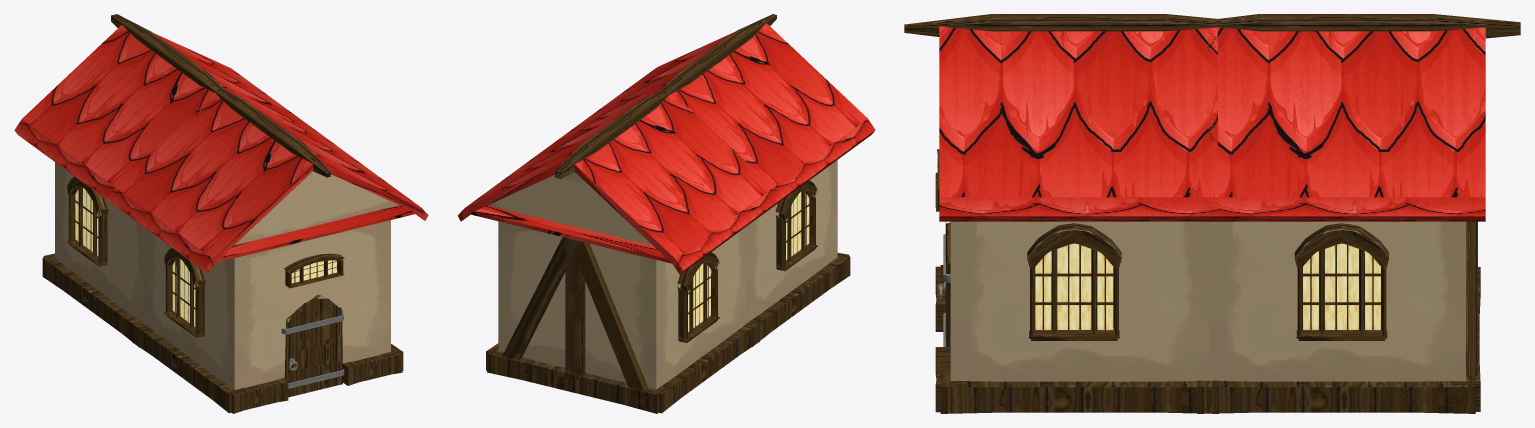
Rendered from house_chesburg_2.glb.
The picture shows the model from 3 angles, left to right: view 1: azimuth 30°, elevation 25°; view 2: azimuth 150°, elevation 25°; view 3: azimuth 270°, elevation 25°; orthographic projection. The views are drawn at different scales.
Visible parts, largest first — view 1: Cube.014, Cube.019, Cube.013, Cube.016, Cube.020, deur_hout_0.002, Object_6.005, Object_6.003, Object_6.007, deur_ijzer_0.002; view 2: Cube.019, Cube.015, Cube.014, Cube.020, Cube.016, Object_6.005, Object_6.003; view 3: Cube.014, Cube.019, Cube.017, Cube.018, Object_6.004, Object_6.006, Cube.015, Cube.013, deur_hout_0.002.
Part boxes in pixels (bbox=[...]): Cube.014: bbox=[108, 89, 428, 273]; Cube.019: bbox=[14, 14, 322, 205]; Cube.013: bbox=[223, 220, 402, 413]; Cube.016: bbox=[132, 227, 246, 413]; Cube.020: bbox=[42, 162, 148, 347]; deur_hout_0.002: bbox=[284, 294, 342, 397]; Object_6.005: bbox=[67, 177, 108, 266]; Object_6.003: bbox=[164, 248, 205, 337]; Object_6.007: bbox=[284, 253, 344, 288]; deur_ijzer_0.002: bbox=[281, 313, 344, 388]; Cube.019: bbox=[457, 91, 778, 274]; Cube.015: bbox=[487, 221, 667, 413]; Cube.014: bbox=[561, 14, 875, 205]; Cube.020: bbox=[644, 226, 759, 413]; Cube.016: bbox=[743, 160, 850, 346]; Object_6.005: bbox=[677, 252, 719, 342]; Object_6.003: bbox=[775, 180, 817, 271]; Cube.014: bbox=[904, 14, 1218, 221]; Cube.019: bbox=[1207, 14, 1520, 221]; Cube.017: bbox=[940, 221, 1219, 413]; Cube.018: bbox=[1197, 221, 1475, 413]; Object_6.004: bbox=[1294, 223, 1388, 340]; Object_6.006: bbox=[1027, 223, 1121, 340]; Cube.015: bbox=[1451, 221, 1480, 411]; Cube.013: bbox=[935, 266, 965, 412]; deur_hout_0.002: bbox=[945, 222, 950, 346].
Size of what is drawn, in the model's own units: 6.65 by 6.63 by 11.06.
Materials: 5 (5 with a texture image).
